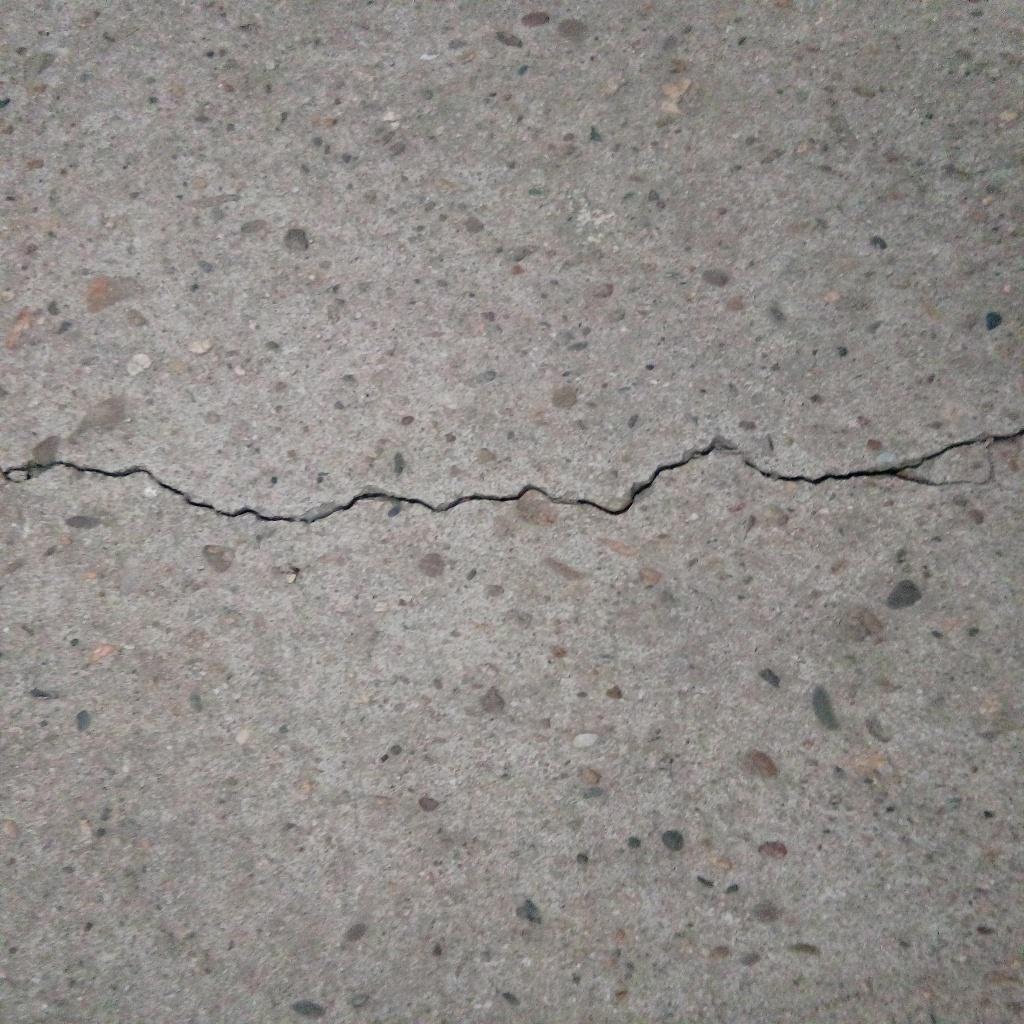Crack: (1, 430, 1024, 524)
